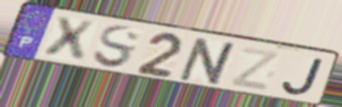2: (135, 31, 186, 81)
J: (280, 57, 327, 97)
N: (175, 36, 242, 88)
S: (91, 25, 142, 71)
X: (41, 15, 97, 64)
Z: (227, 45, 283, 93)
